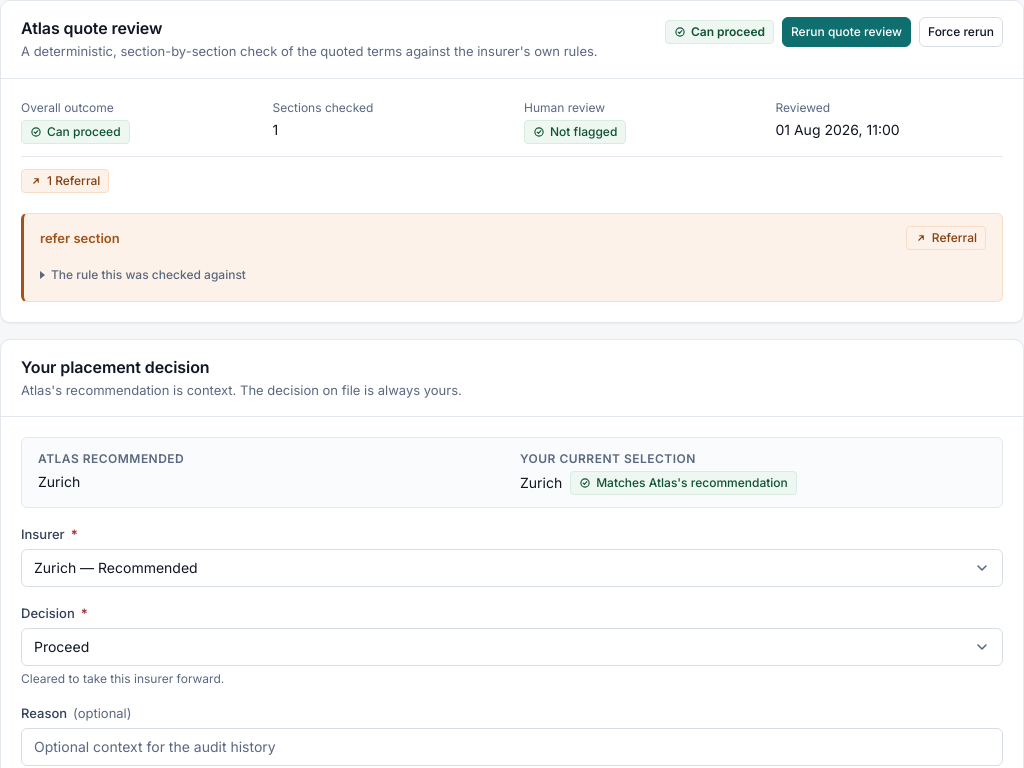
QuoteReviewPanel — completed review › makes the rule evidence disclosure reachable and reveals the source reference
Click the heading "The rule this was checked against": (148, 275) [51,267,246,282]
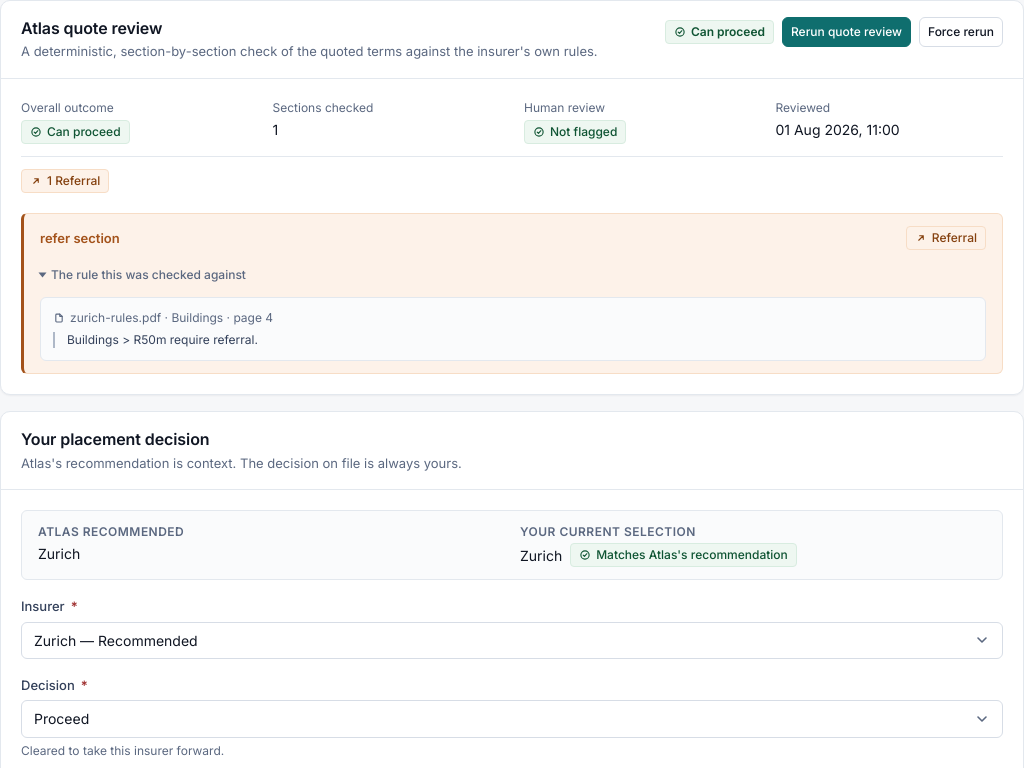
Now the text "zurich-rules.pdf · Buildings · page 4" is shown, box [70,310,273,326]
Now the text "Buildings > R50m require referral." is shown, box [53,332,973,348]
